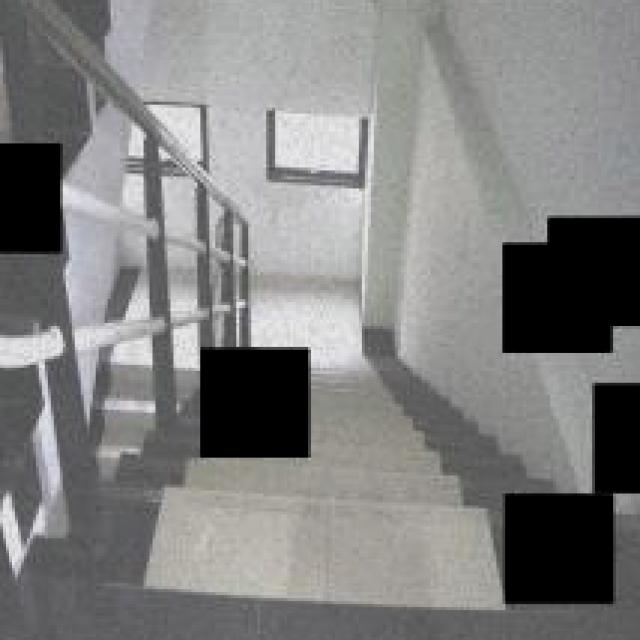downstair: (72, 461, 494, 640)
